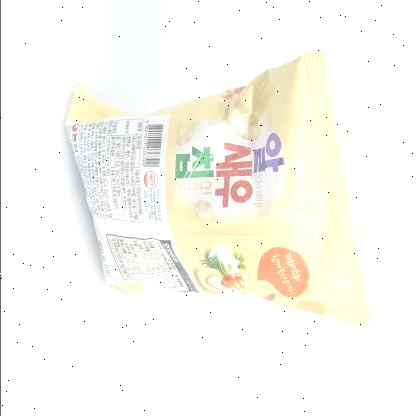Others: (55, 37, 377, 343)
